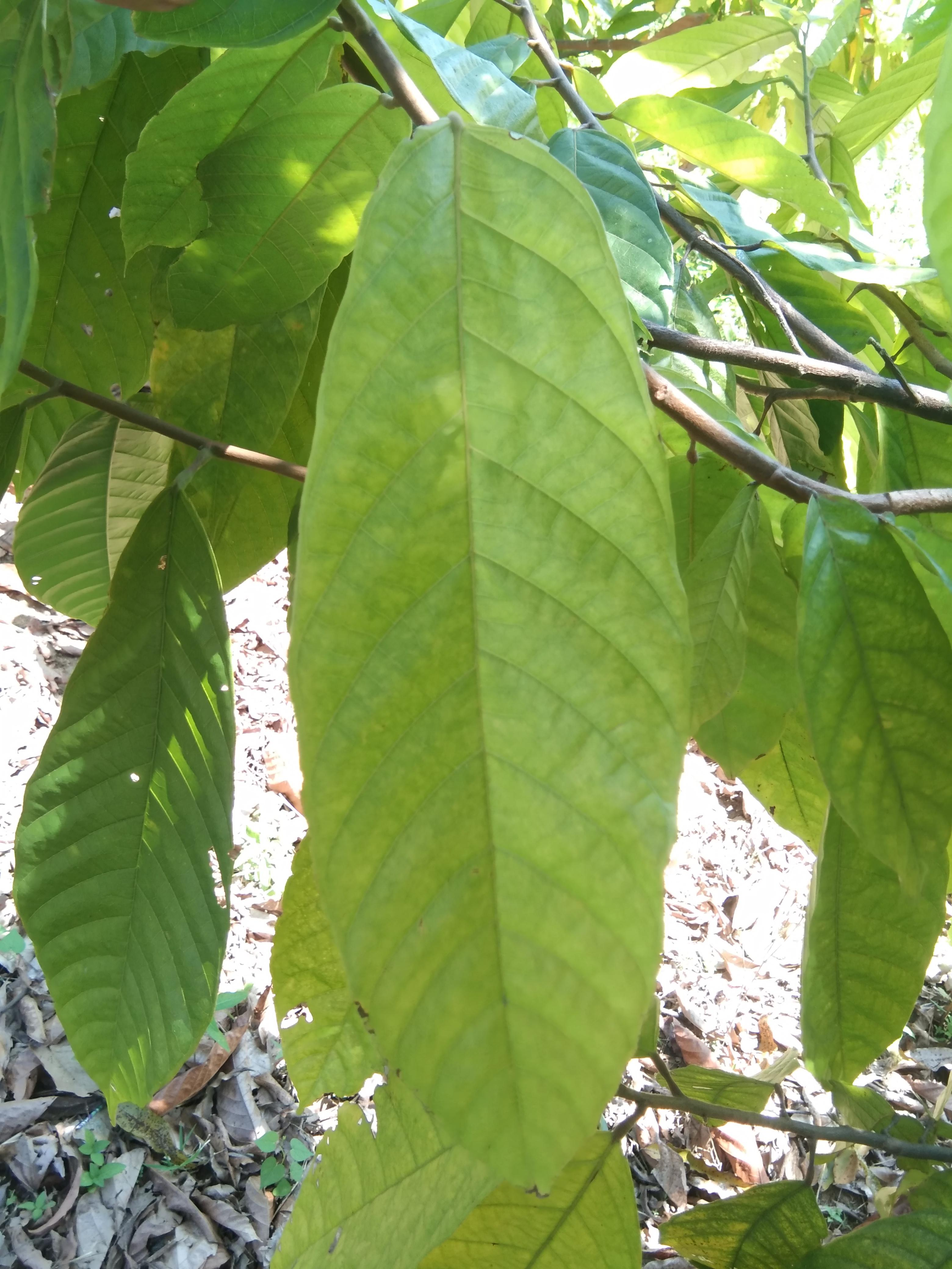deficiencia_potasio: (292, 114, 684, 1208)
